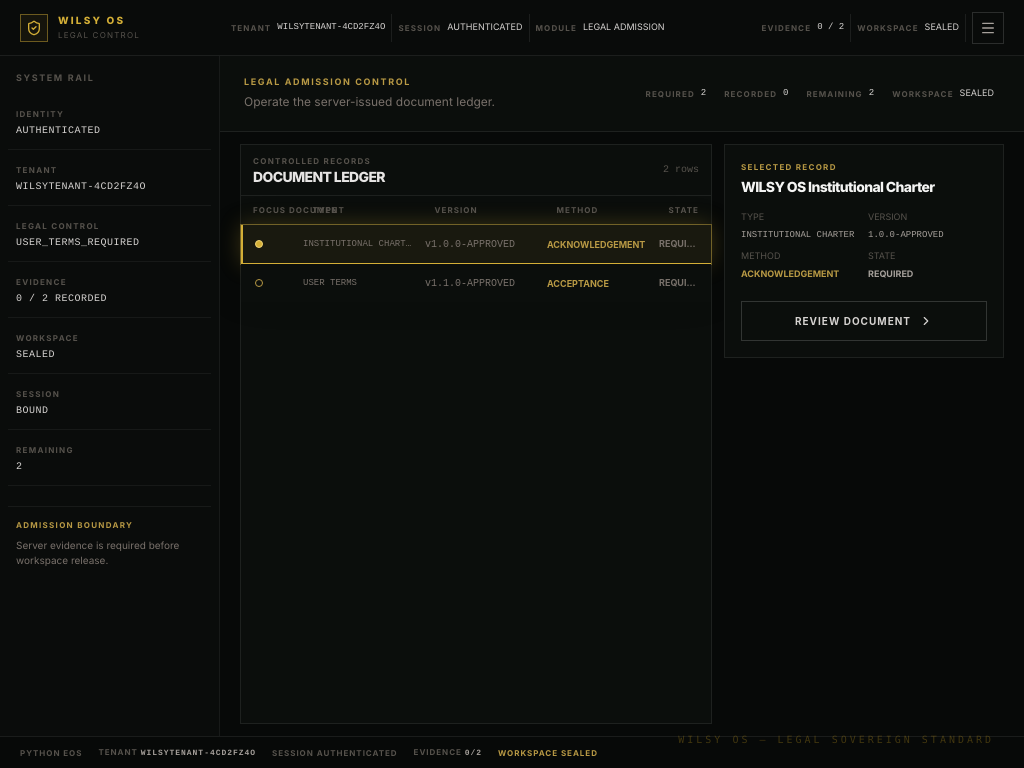
Test case: LegalAcceptanceGate institutional interaction shell › uses acceptance semantics for non-charter records
Expected: the heading "Document ledger" is shown, x1=253 y1=171 x2=385 y2=185
What coordinates should you click on to do the following:
click the row named "WILSY OS User Terms"
I would click on:
 (476, 283)
Its box is x1=241 y1=264 x2=711 y2=302.
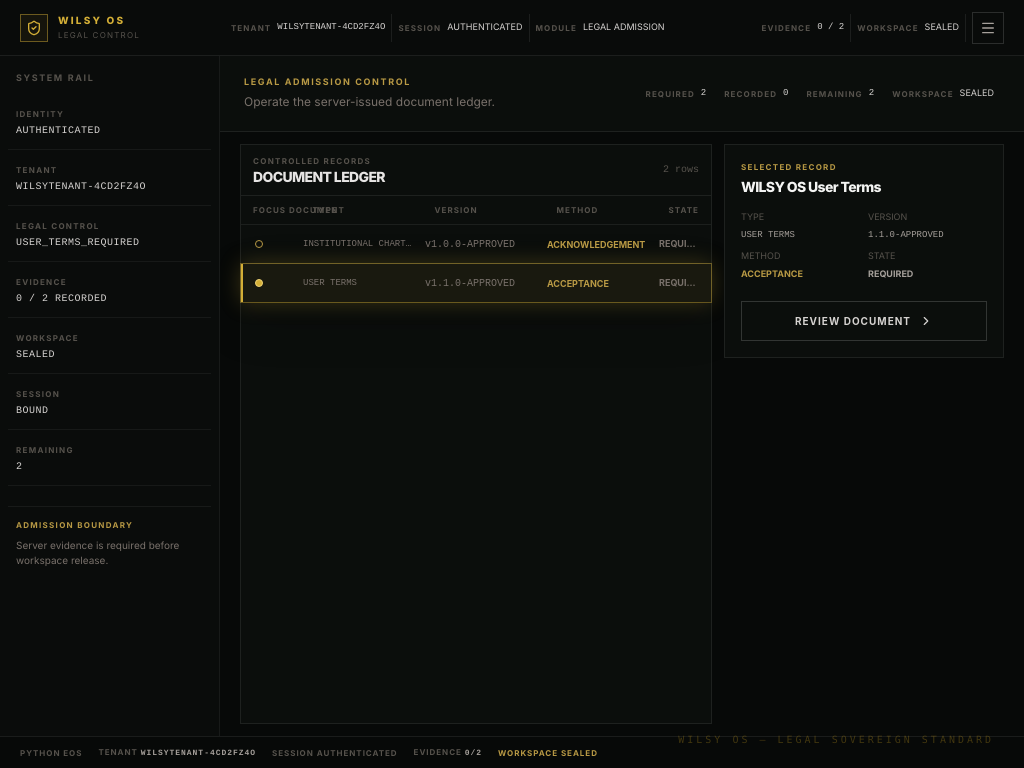
What coordinates should you click on to do the following:
click the button "Review document"
I would click on:
 (864, 321)
Its box is x1=741 y1=301 x2=987 y2=341.
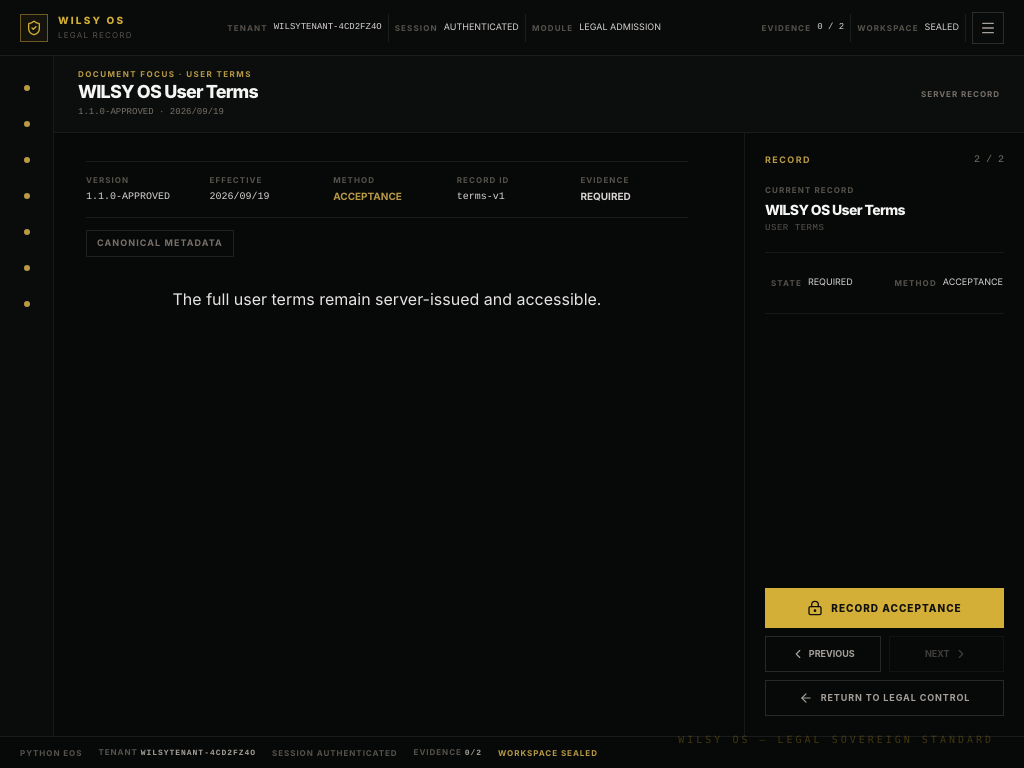
Result: the button "Record acceptance" is shown at x1=765 y1=588 x2=1004 y2=628
